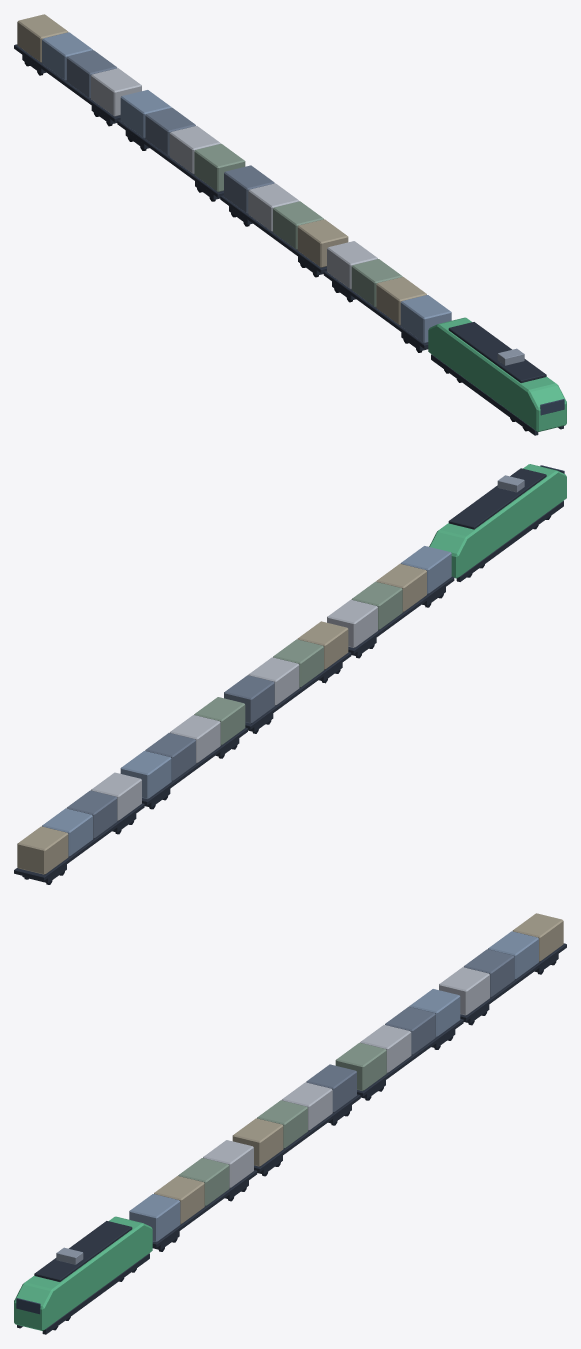
The model's file is freight_train.glb.
3 views of the same model, one above another, from view 1: azimuth 30°, elevation 25°; view 2: azimuth 150°, elevation 25°; view 3: azimuth 330°, elevation 25° (orthographic).
Parts seen in each view (by area): view 1: freight_train; view 2: freight_train; view 3: freight_train.
Part boxes in pixels (x1,y1,x2,y2): freight_train: (14, 14, 566, 435); freight_train: (14, 464, 566, 884); freight_train: (14, 913, 566, 1334).
Bounding box in the file's own units: 2.8 × 4.9 × 83.23.
